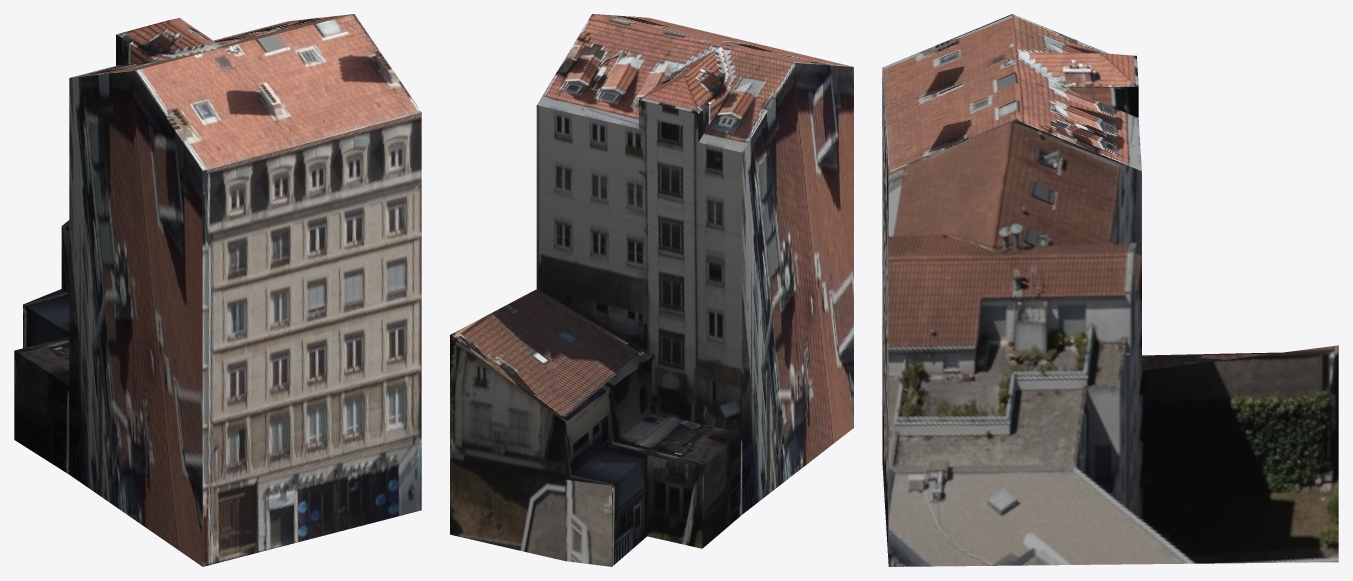
3 views of the same model, side by side, from view 1: azimuth 30°, elevation 25°; view 2: azimuth 150°, elevation 25°; view 3: azimuth 270°, elevation 25° (orthographic). The views are drawn at different scales.
Parts seen in each view (by area): view 1: Z_UP; view 2: Z_UP; view 3: Z_UP.
Boxes of the visible parts, box(x1,y1,x2,y2) form: Z_UP: box(14, 14, 421, 566); Z_UP: box(450, 14, 853, 566); Z_UP: box(882, 14, 1338, 566).
Bounding box in the file's own units: 14.68 × 27.04 × 25.12.
2 materials, 1 textured.
